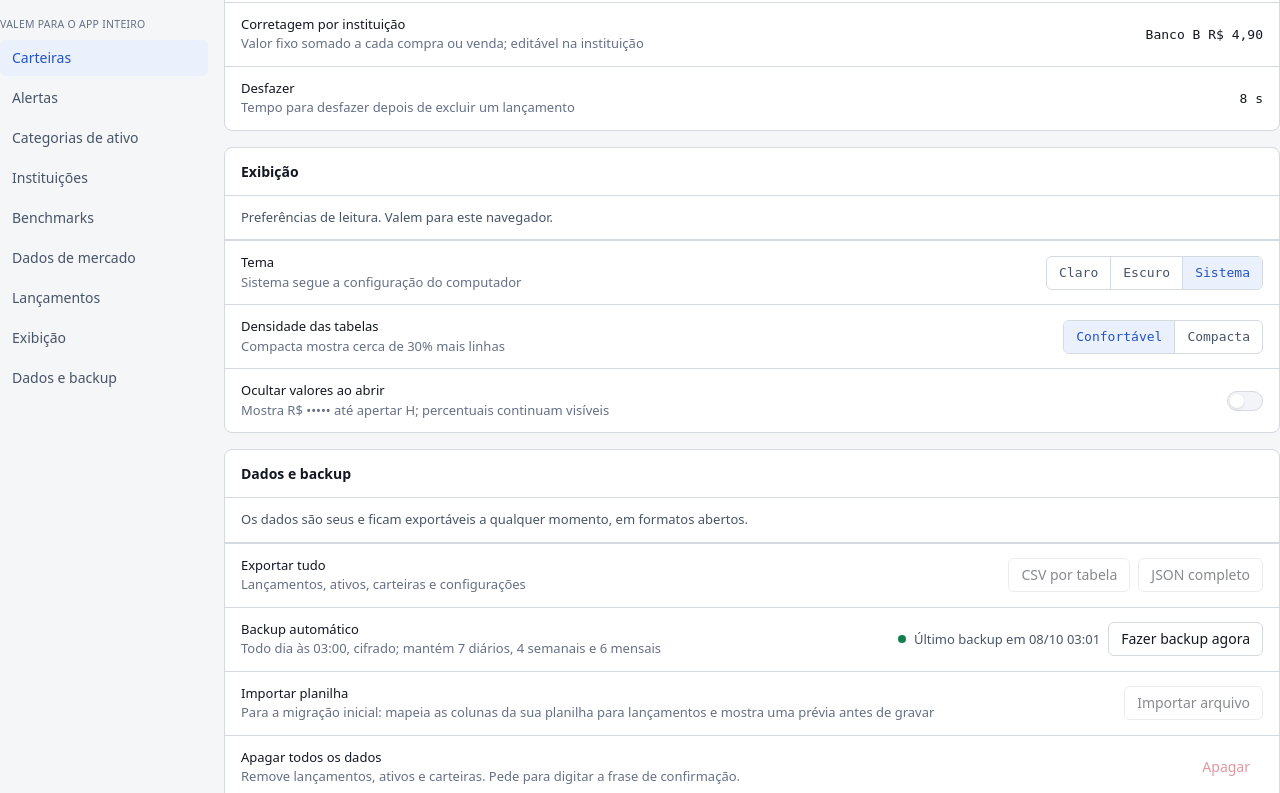
Test: SettingsView › o backup mostra o último, pede um novo e diz que foi pedido
(page scrolled)
Expected: the text "Último backup em 08/10 03:01" is shown, x1=898 y1=630 x2=1100 y2=649
Step 1. Click the button "Fazer backup agora" → x=1186, y=639, box x1=1108 y1=622 x2=1263 y2=656
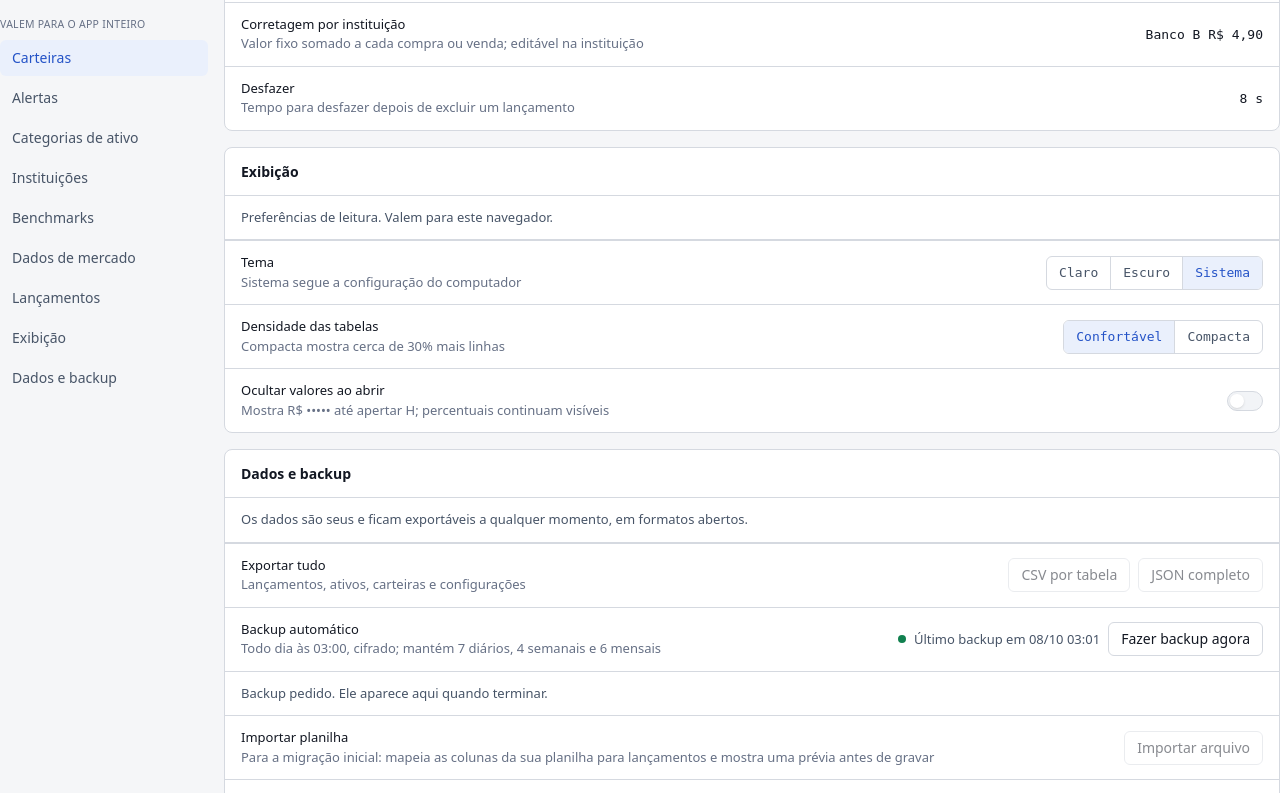
Expected: the text "Backup pedido. Ele aparece aqui quando terminar." is shown, x1=241 y1=684 x2=548 y2=702
